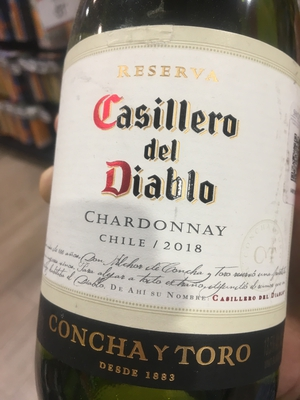casillero del diablo chardonnay: (32, 12, 297, 400)
